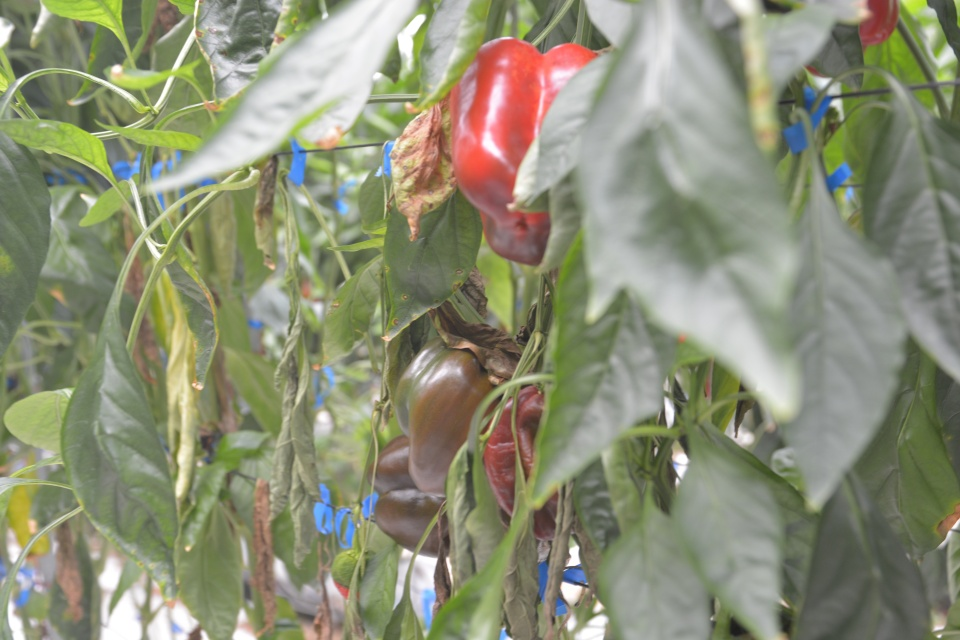fruit: (447, 32, 600, 267), (392, 336, 504, 499), (482, 383, 575, 542), (365, 433, 450, 560), (803, 0, 898, 80)
